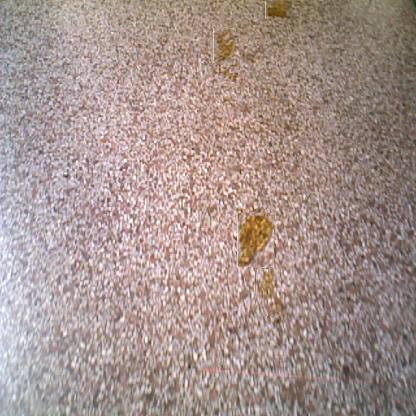liquid: (237, 213, 274, 267), (255, 268, 281, 316), (213, 27, 234, 63), (265, 1, 292, 19), (220, 66, 238, 84)
